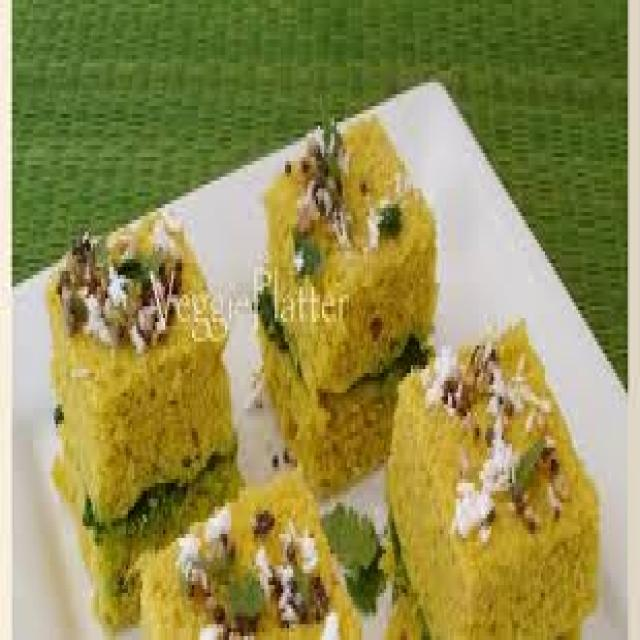DHOKLA: (374, 82, 626, 636), (386, 322, 599, 636), (43, 220, 233, 526), (167, 141, 297, 294), (12, 267, 64, 636), (227, 314, 268, 475)
